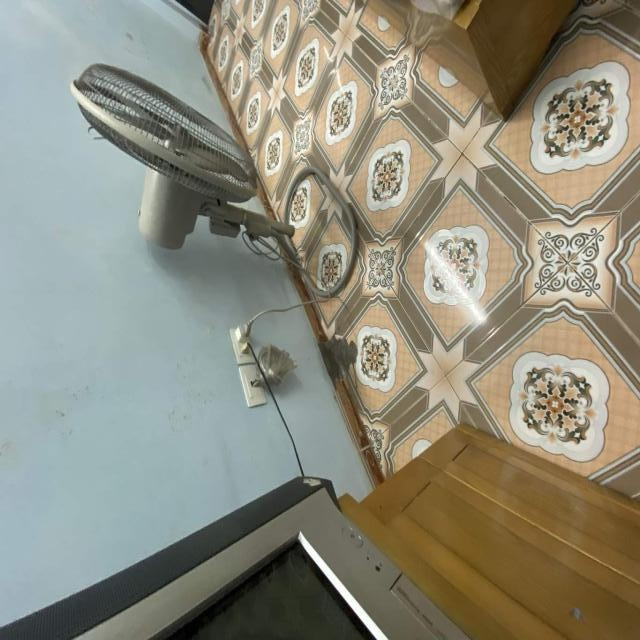outlet: (238, 364, 267, 409), (229, 325, 257, 364)
